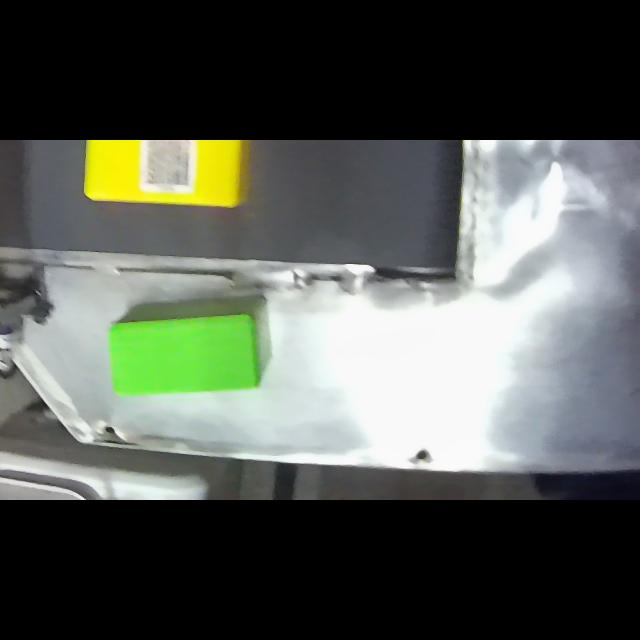greenBox: (108, 294, 266, 396)
yellowBox: (80, 140, 252, 212)
